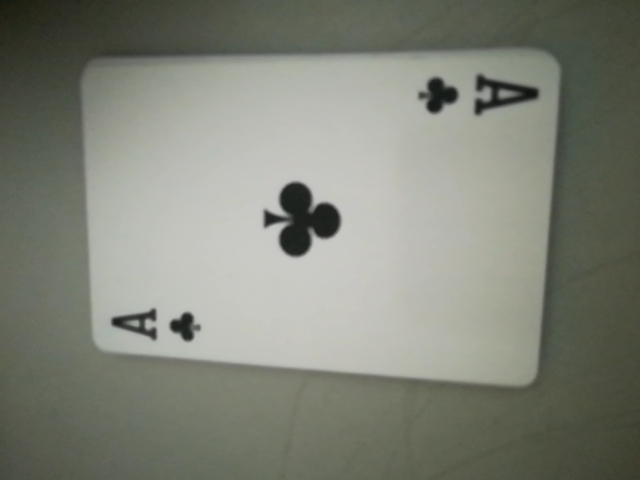mh a: (415, 64, 541, 130), (104, 296, 213, 352)
